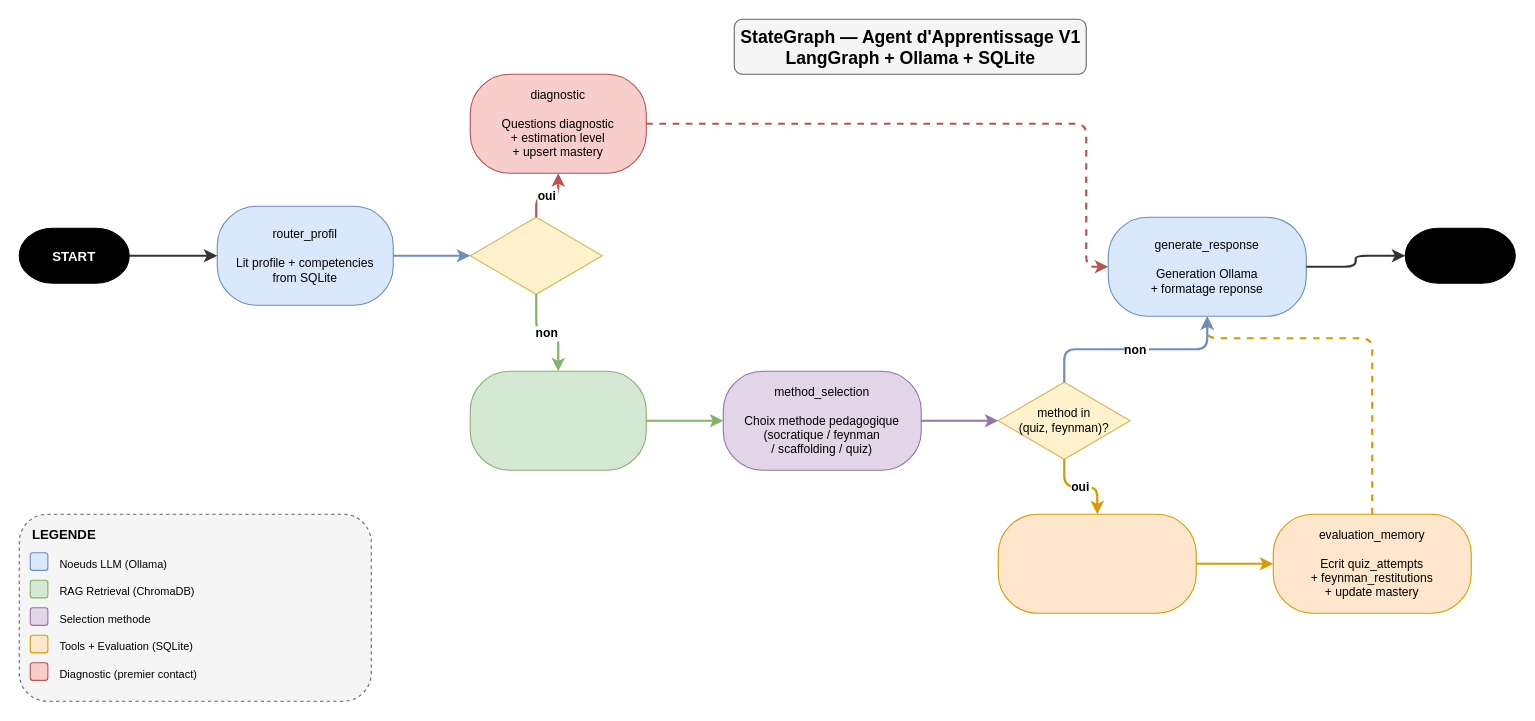
Some shapes in this 1535 by 721 pixel diagram are drawn without their labels. The centre of each missing label's shape, as x and y in pixels:
END: point 1459,255
method = diagnostic?: point 535,255
retrieve RAG retrieval ChromaDB top_k: point 557,420
tool_execution generate_quiz / evaluate_feynman create_artifact: point 1096,563
